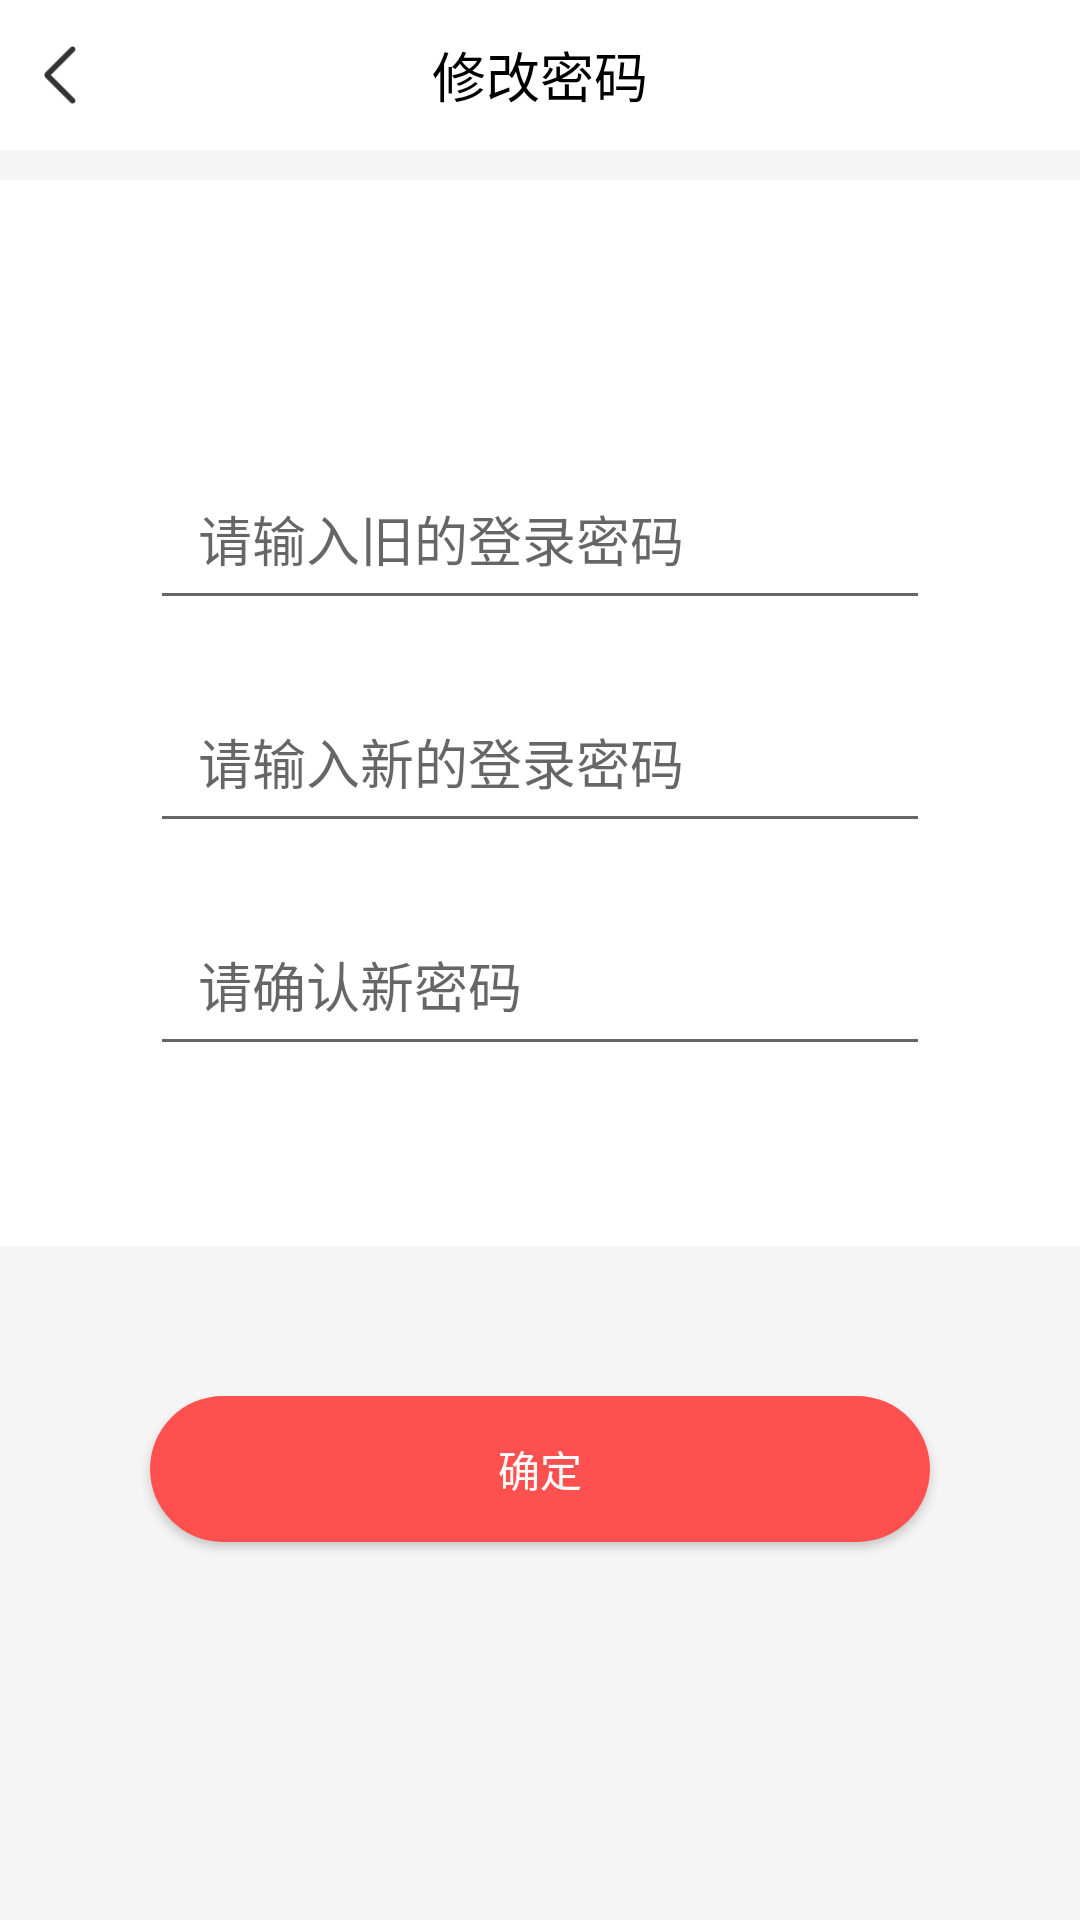

Icon click points for this 1080×1920 phone screenshot, format [x,y]:
back: [60,75]
